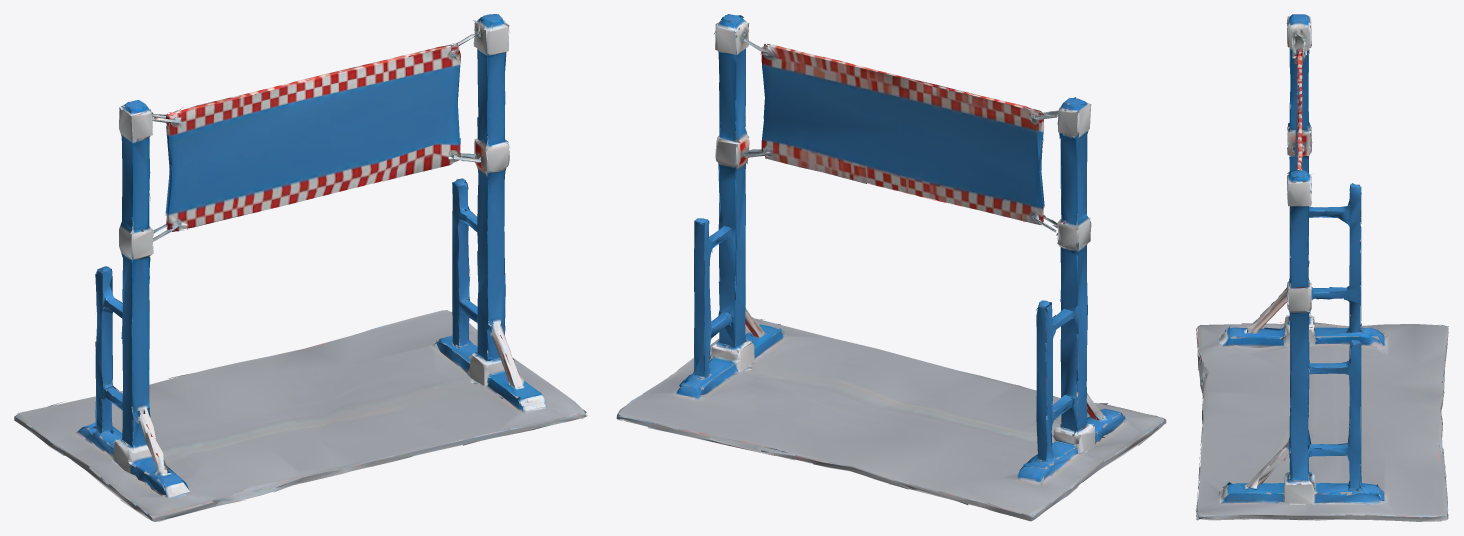
The model's file is finishGantry.glb.
3 renders of one model, left to right at view 1: azimuth 30°, elevation 25°; view 2: azimuth 150°, elevation 25°; view 3: azimuth 270°, elevation 25°, orthographic. The views are drawn at different scales.
Parts seen in each view (by area): view 1: finishGantry; view 2: finishGantry; view 3: finishGantry.
Part boxes in pixels (left/top/right/bottom): finishGantry: left=14, top=14, right=587, bottom=521; finishGantry: left=616, top=14, right=1166, bottom=521; finishGantry: left=1195, top=14, right=1448, bottom=521.
Size of the model in its own units: 1.12 by 0.9026 by 0.6247.
Materials: 1 (1 with a texture image).
